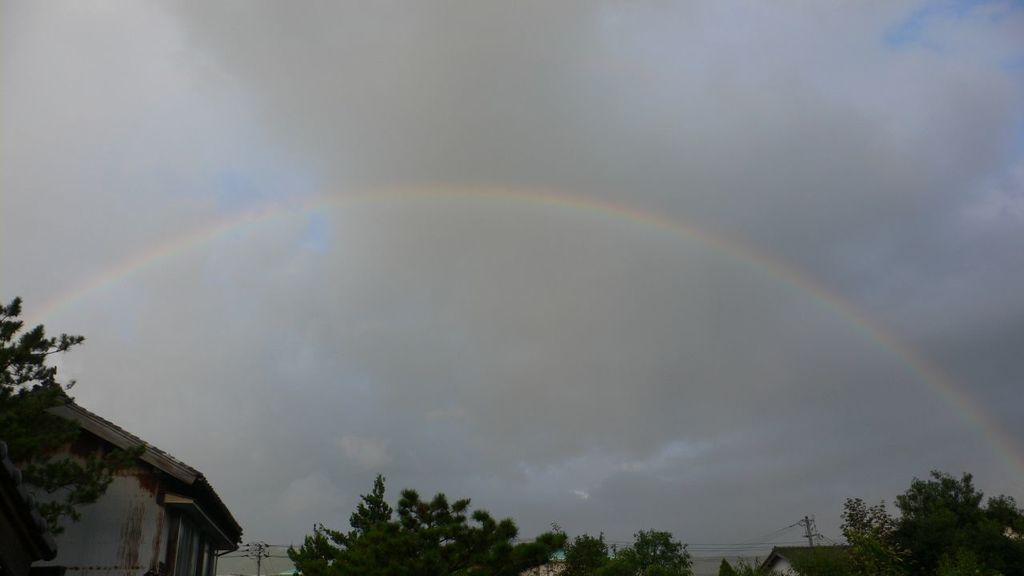Tree: (0, 296, 148, 575), (282, 476, 565, 575), (892, 465, 984, 575), (835, 493, 900, 575), (975, 489, 1023, 575), (632, 529, 692, 575), (561, 534, 613, 575), (608, 544, 640, 575), (731, 556, 780, 575)
